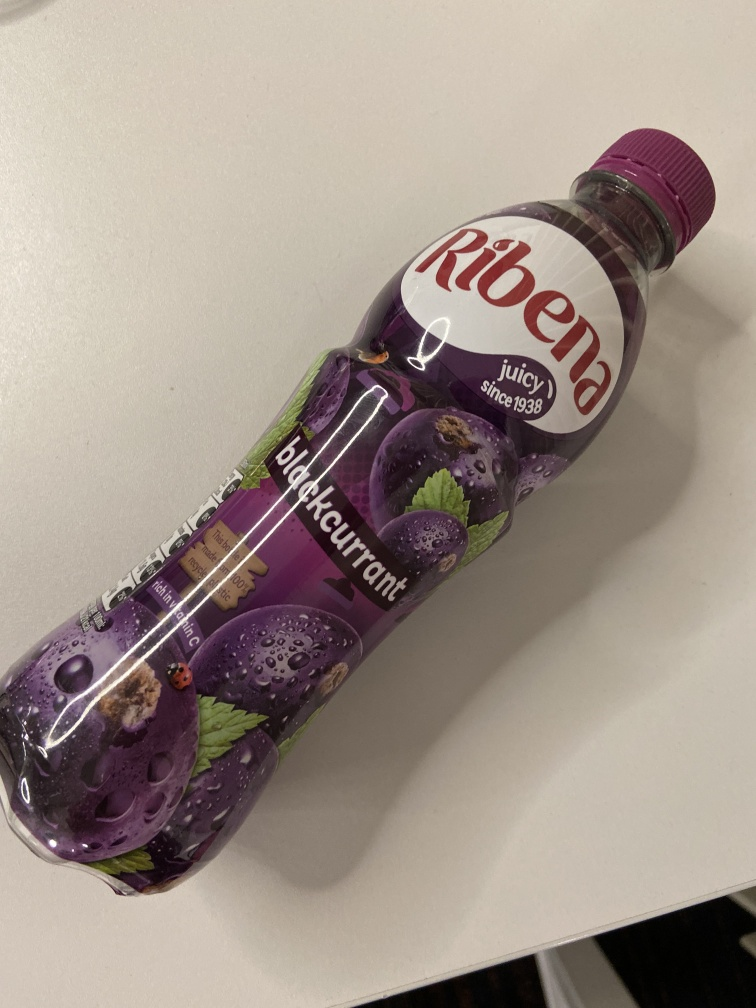bottle_purple: (2, 119, 723, 900)
